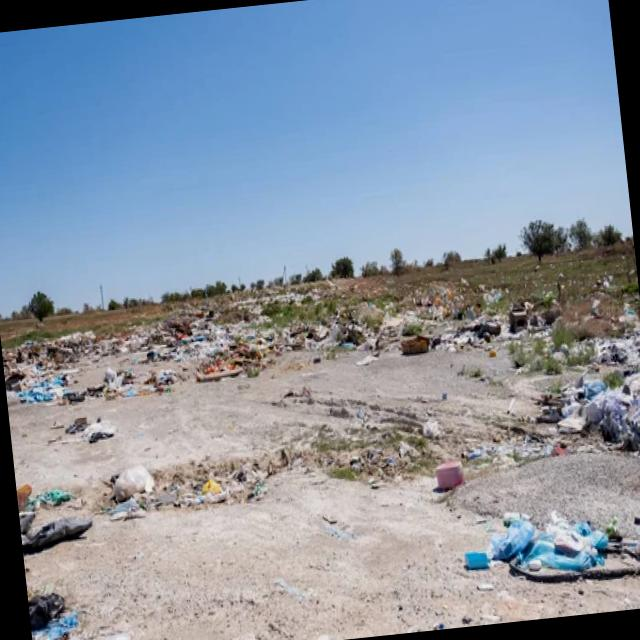garbage: (0, 246, 640, 633)
